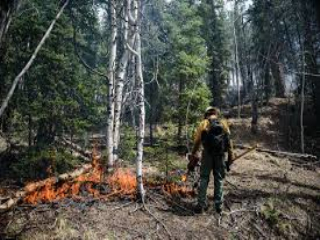fire: (11, 147, 154, 201)
